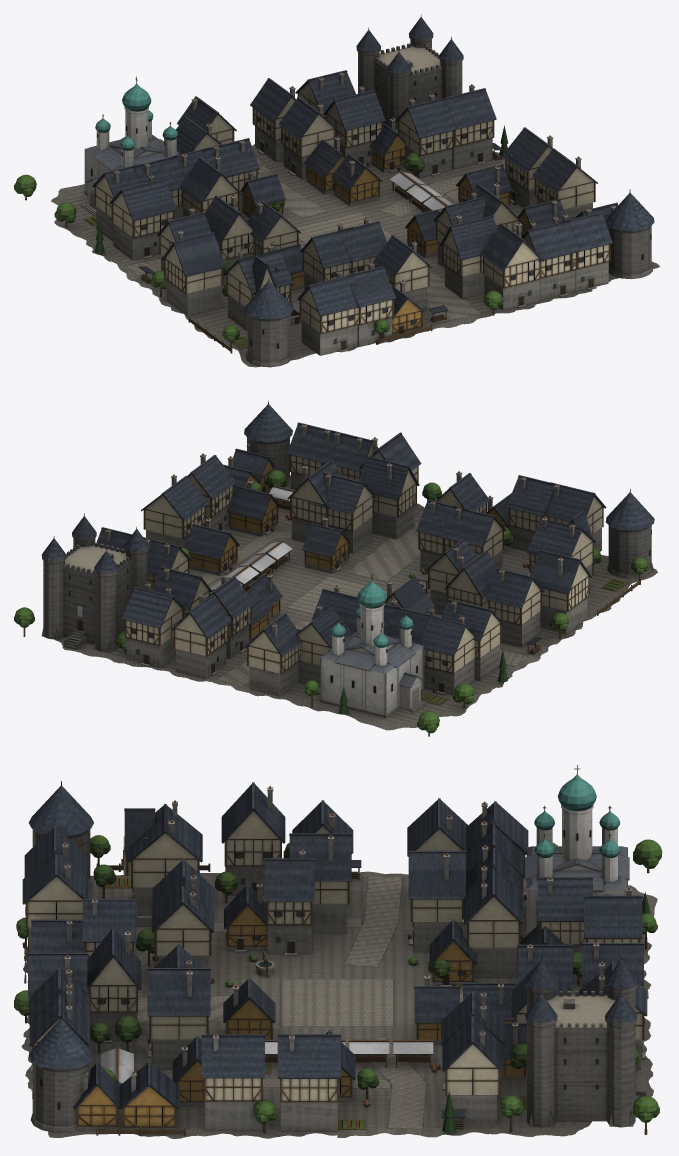
The model's file is kingdoms-town-big-a-easteurope.glb.
The picture shows the model from 3 angles, top to bottom: view 1: azimuth 30°, elevation 25°; view 2: azimuth 150°, elevation 25°; view 3: azimuth 270°, elevation 25°; orthographic projection. The views are drawn at different scales.
Parts seen in each view (by area): view 1: LOD0; view 2: LOD0; view 3: LOD0.
Part boxes in pixels (x1,y1,x2,y2): LOD0: (14,14,659,367); LOD0: (14,400,657,736); LOD0: (14,765,662,1138).
Size of what is drawn, in the model's own units: 8.11 by 2.26 by 8.14.
3 materials, 3 textured.
